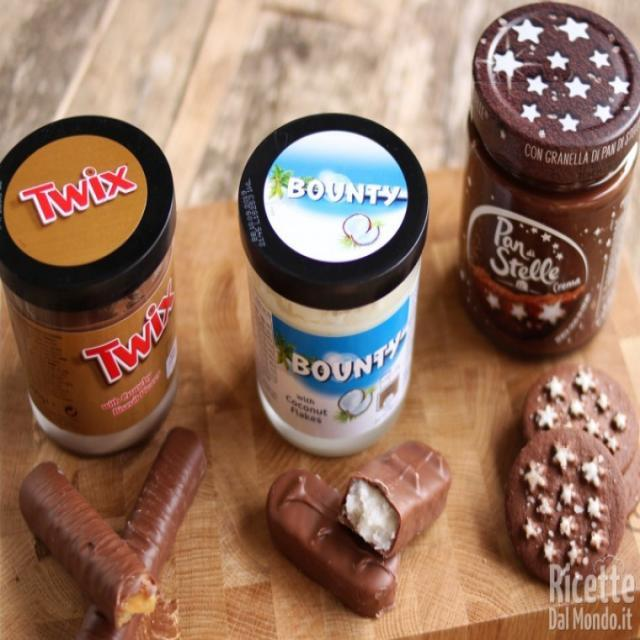Chocolate bar packaged: (20, 461, 159, 631), (105, 428, 207, 640), (266, 466, 398, 618), (342, 436, 456, 560)
Cookie: (506, 428, 626, 592), (518, 361, 640, 488)
